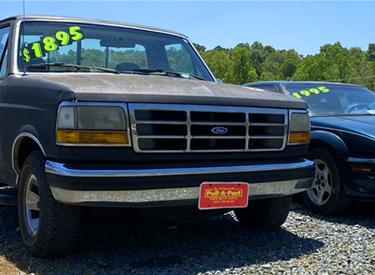windshield: (13, 17, 217, 82)
